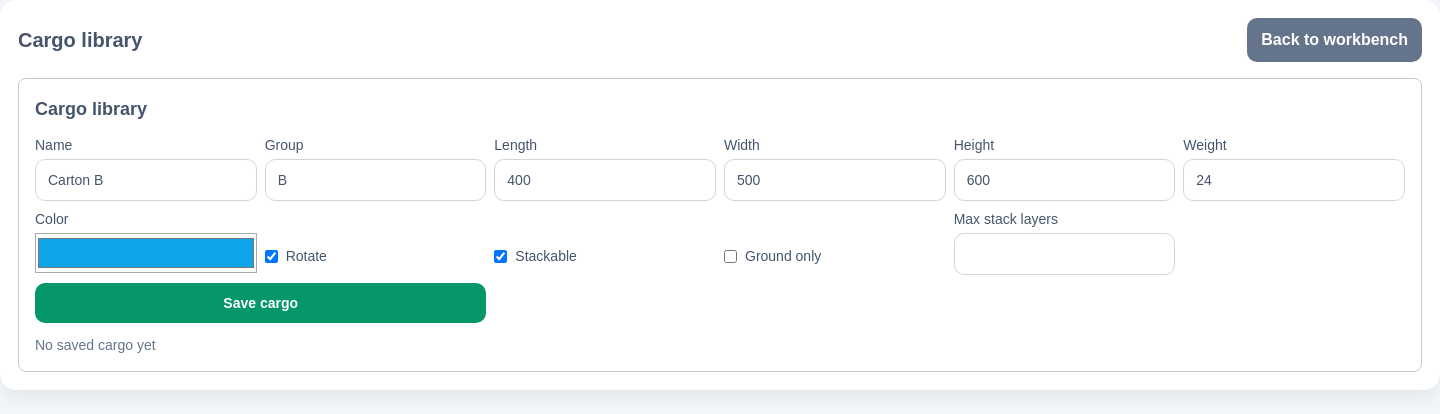
Test case: CargoLibraryPage › creates one reusable cargo definition with an uppercase label (no truncation) and no stale stack limit
Replace the text in the field labelled "Name" with "  Priority carton  " at (146, 180), box [35,159,257,201]
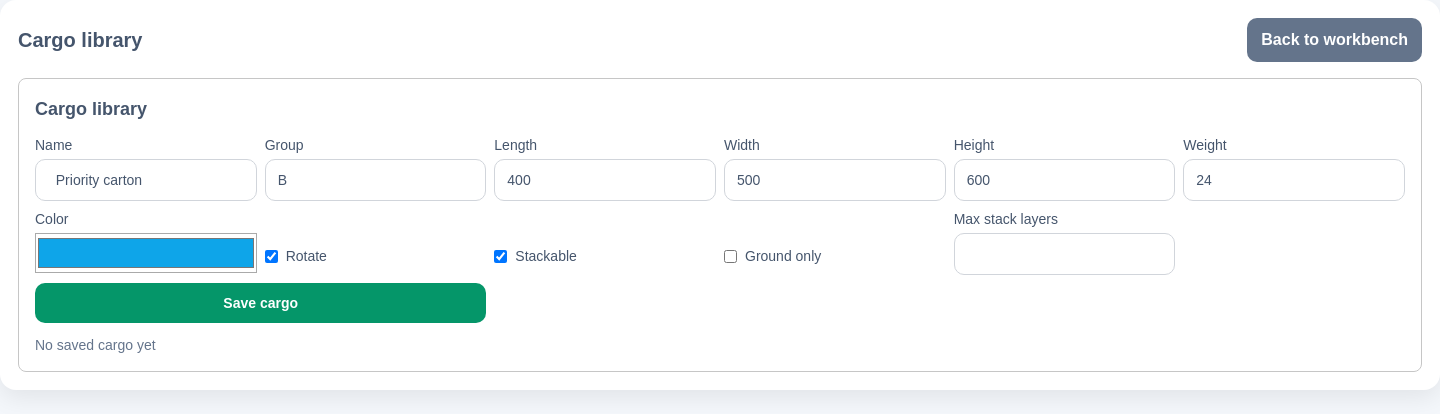
Replace the text in the field labelled "Group" with "abz" at (376, 180), box [265,159,486,201]
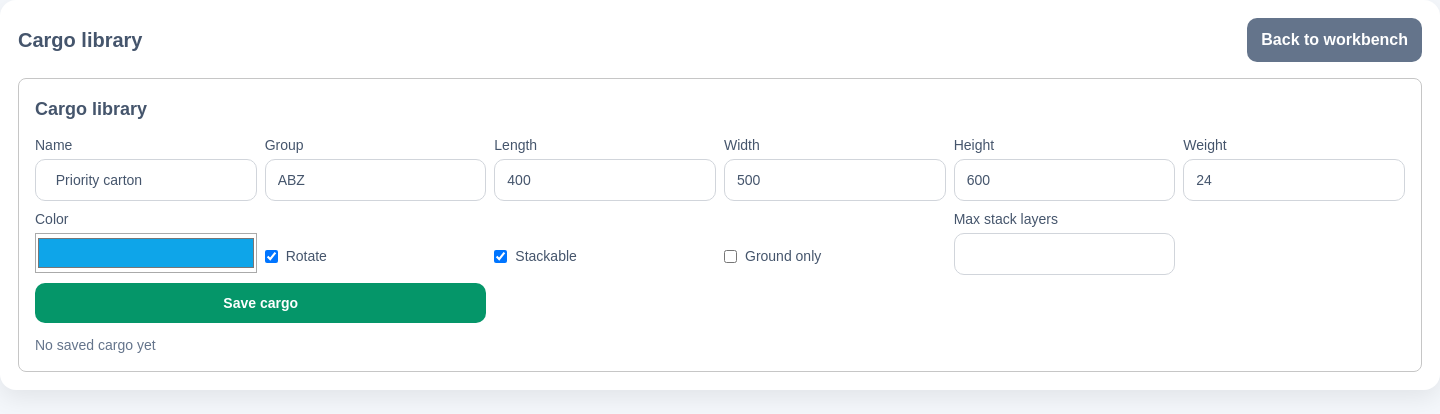
Type "7" into the number field labelled "Max stack layers" at (1065, 254), box [954,233,1175,275]
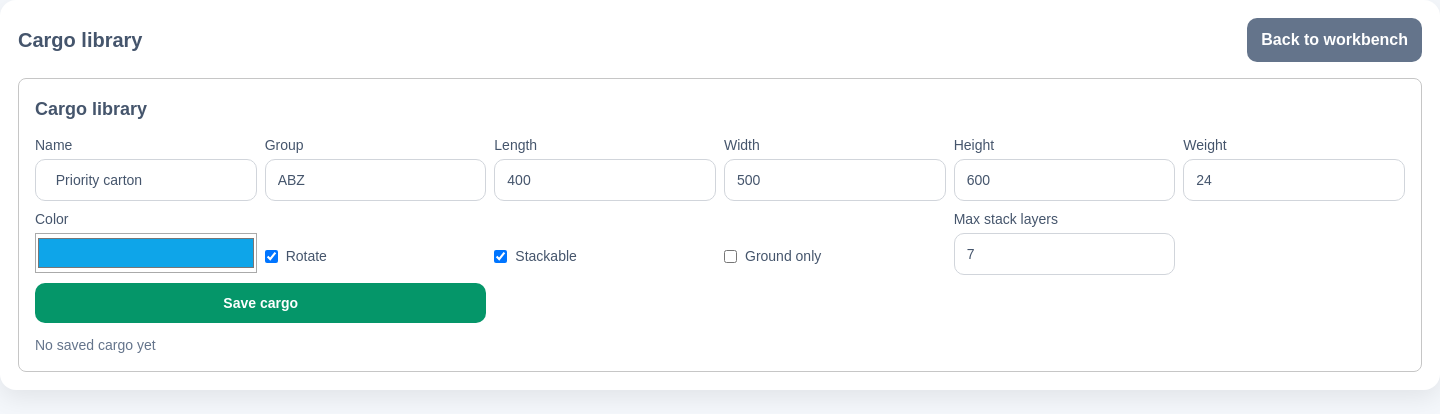
Click the checkbox labelled "Stackable" at (501, 256), box [494,250,507,262]
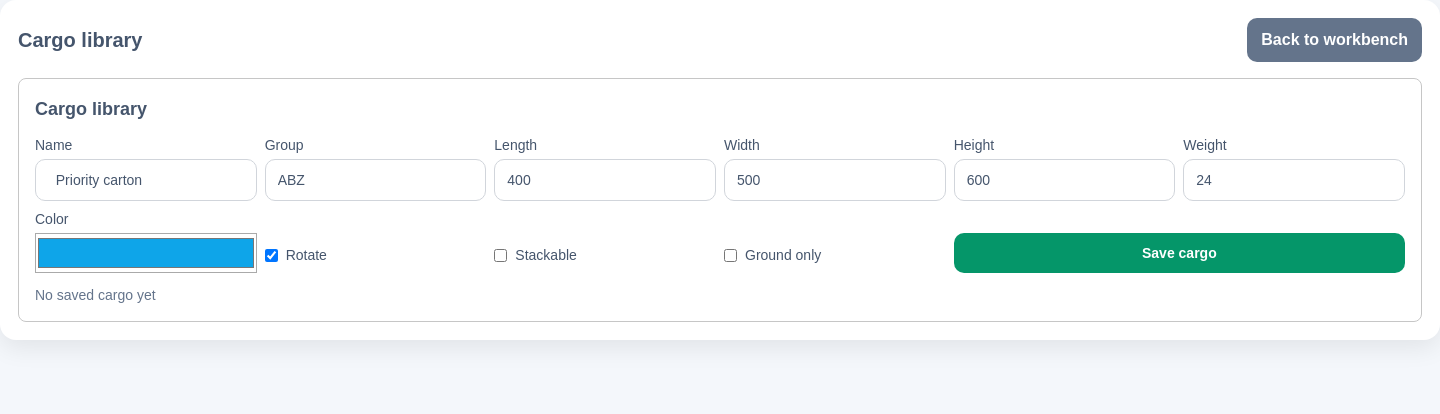
Now the label labelled "Max stack layers" is gone
Click the button "Save cargo" at (1179, 253), box [954,233,1405,273]
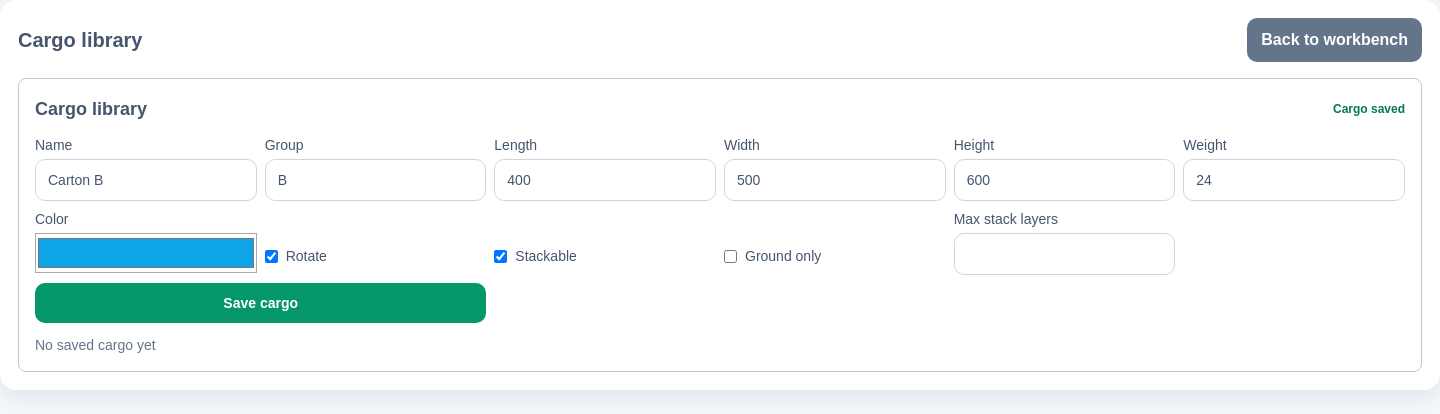
Now the text "Cargo saved" is shown, box [1333,101,1405,117]
